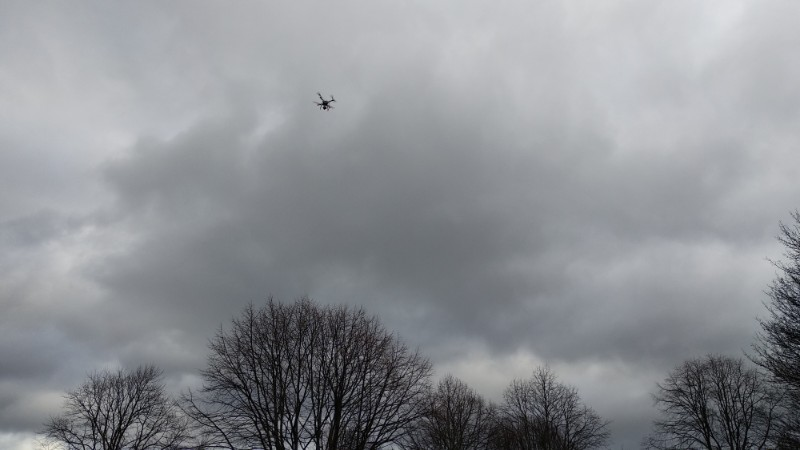drone: (312, 91, 337, 111)
